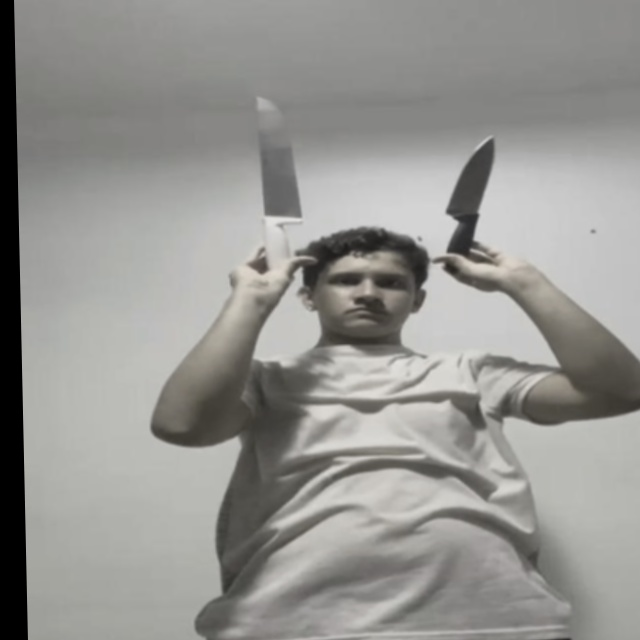Sharp-Object: (252, 94, 303, 219), (445, 134, 501, 216)
